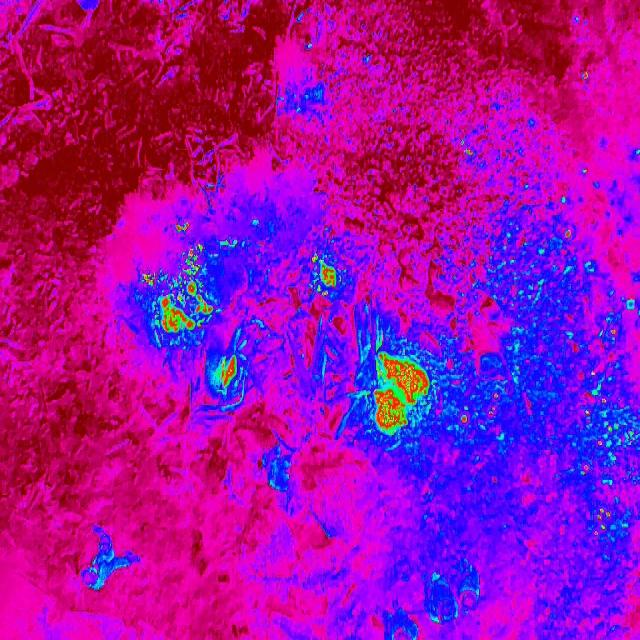fire: (555, 224, 640, 540), (138, 242, 217, 336), (368, 348, 434, 443), (448, 387, 505, 431), (311, 252, 342, 300), (214, 350, 240, 394), (170, 218, 193, 238)
